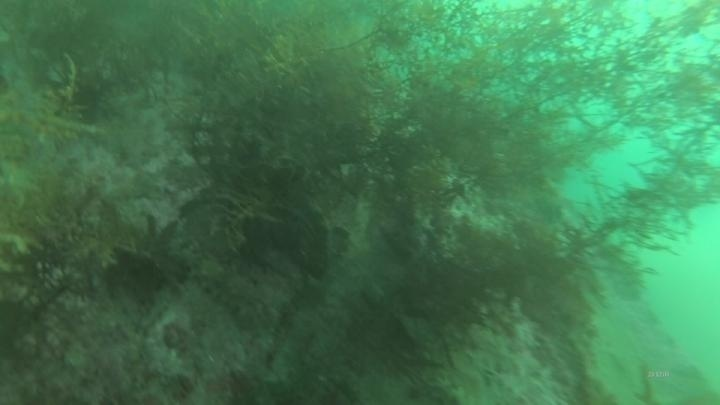holothurian: (190, 254, 284, 327)
